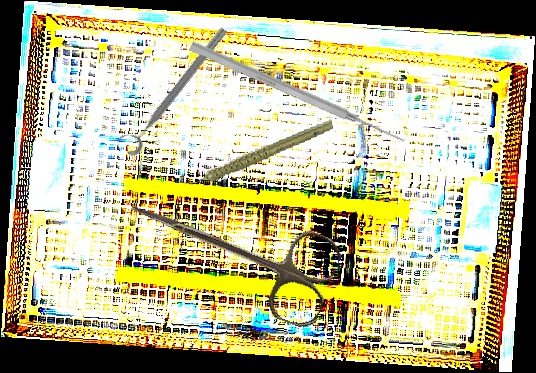Fixation Ring: (113, 18, 232, 159)
Handpiece: (177, 118, 339, 188)
Iris Scissors: (113, 167, 346, 333)
Pusher: (188, 39, 407, 148)
